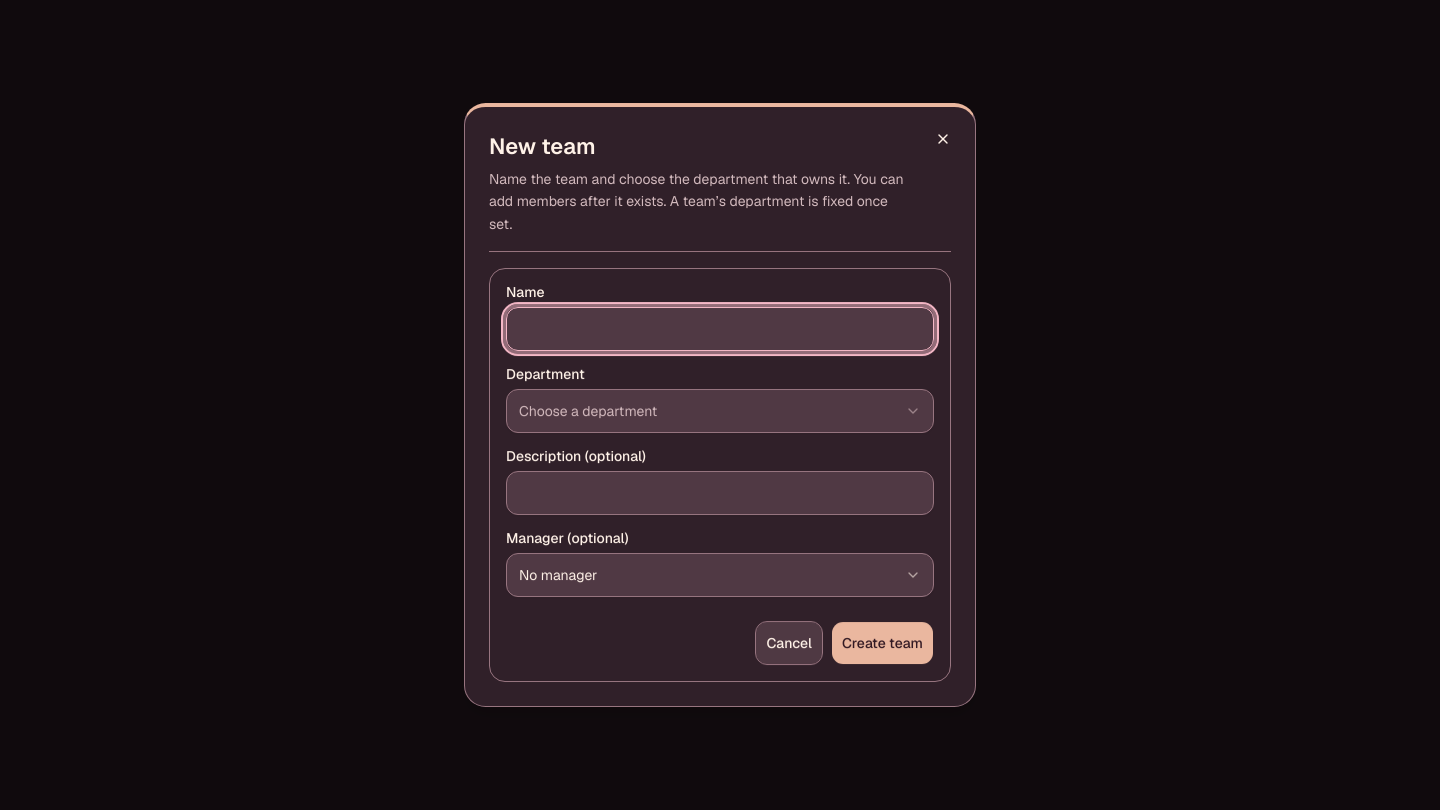
it: CreateTeamDialog › shows a name-conflict error and keeps the typed value
This screenshot has width=1440, height=810.
Step 1. Type "Marketing Team" into the field labelled "Name" → (720, 329), box [506,307,934,351]
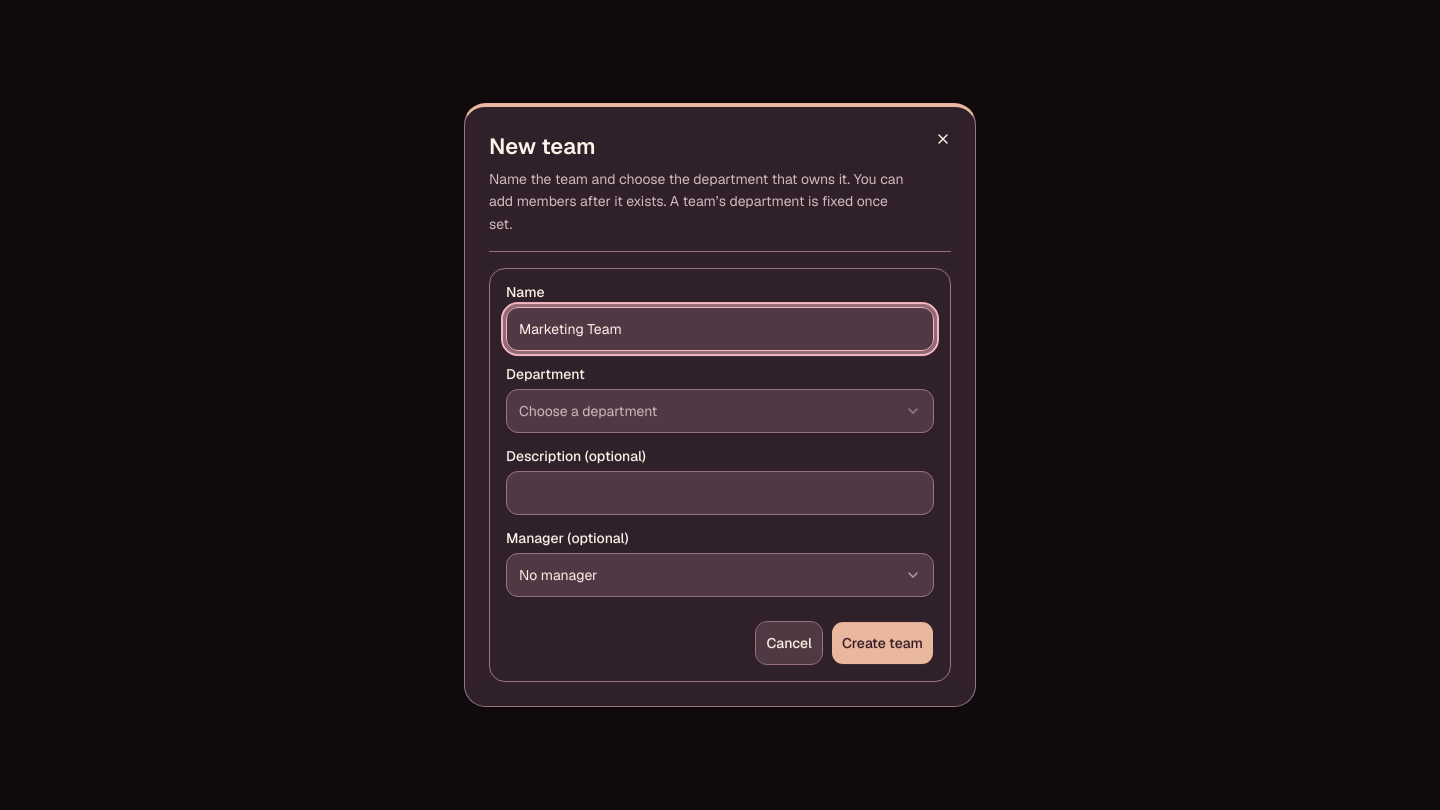
Step 2. Click the dropdown labelled "department" → click(588, 411), box [506,389,934,433]
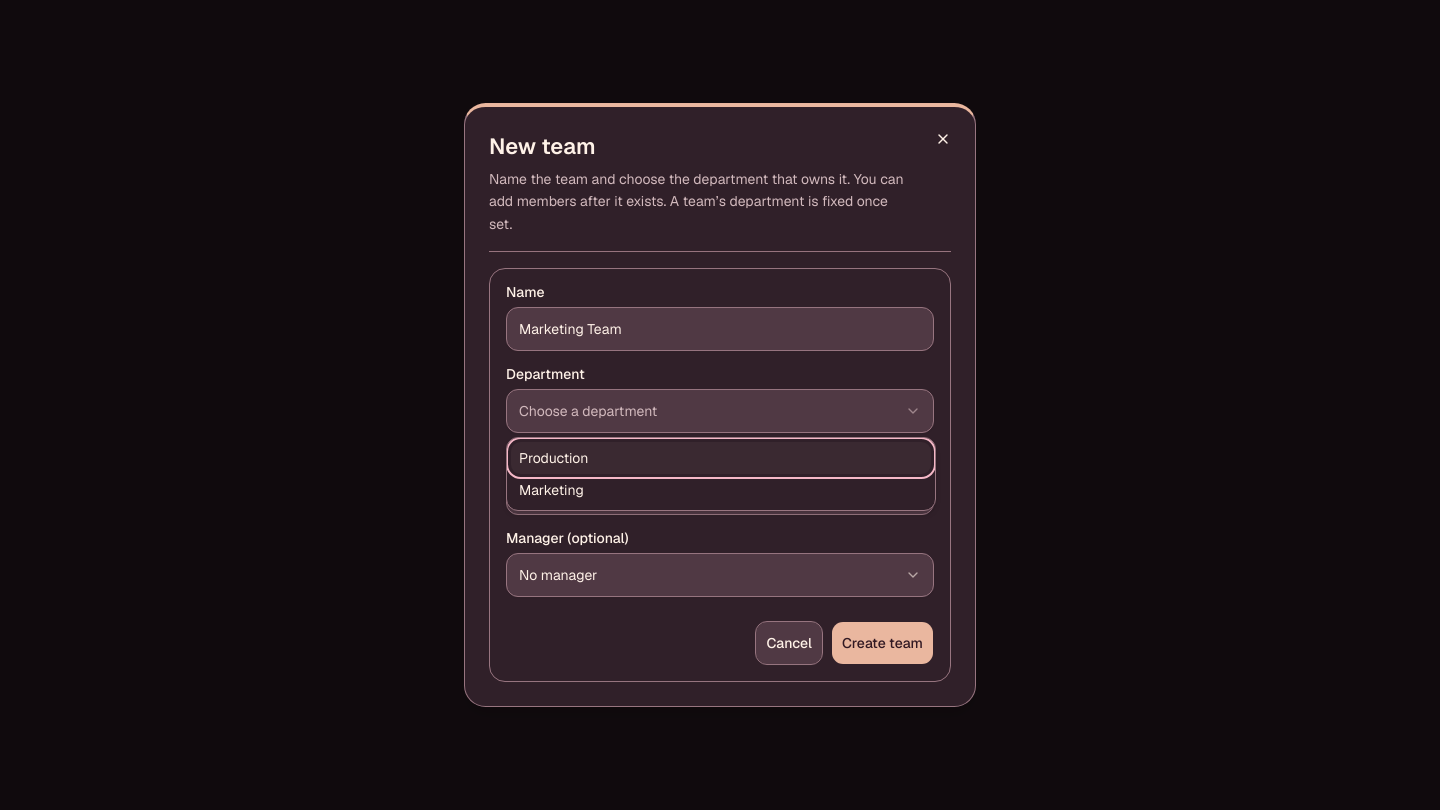
Step 3. Click the option "Production" → click(554, 458), box [511,442,931,474]
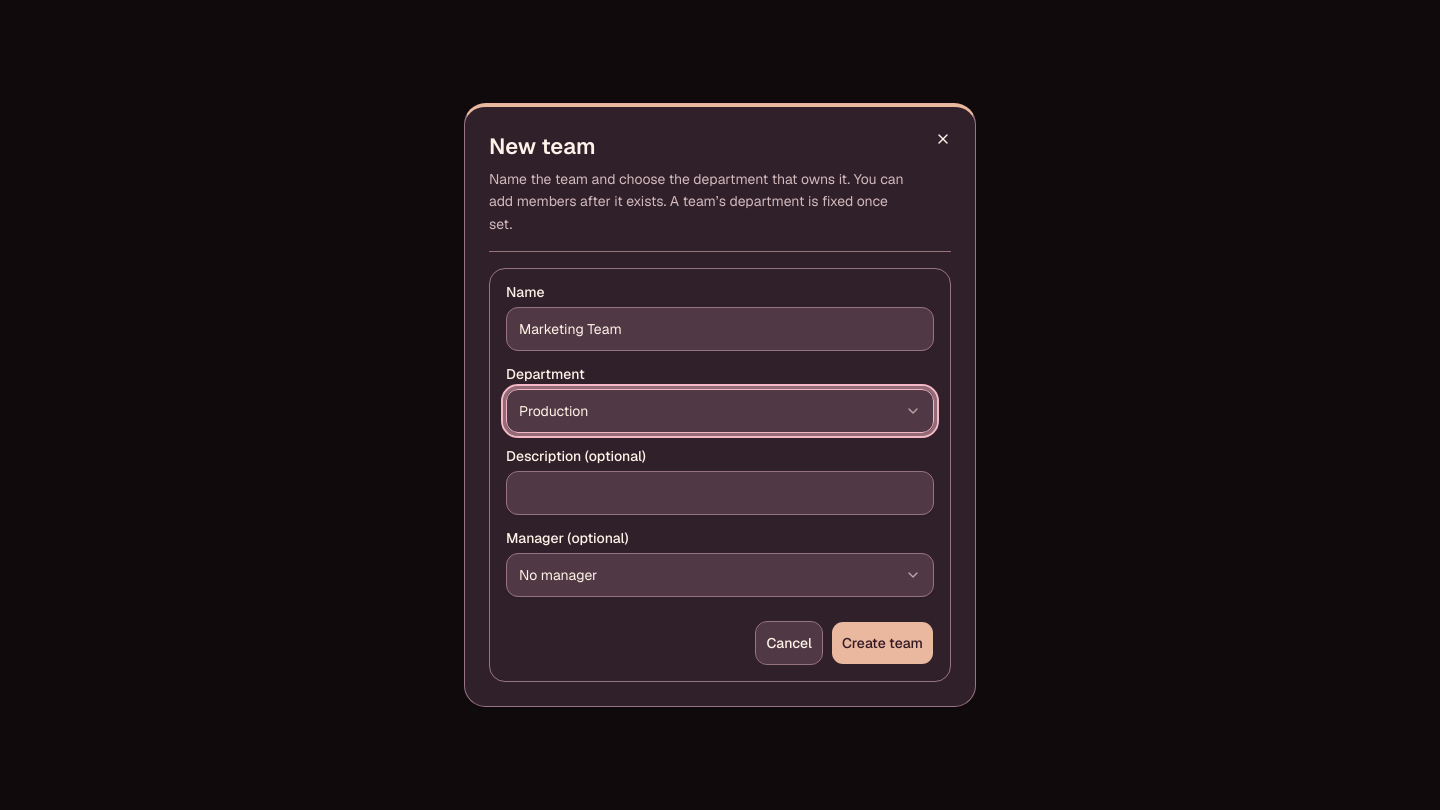
Step 4. Click the button "Create team" → click(882, 643), box [831,621,934,665]
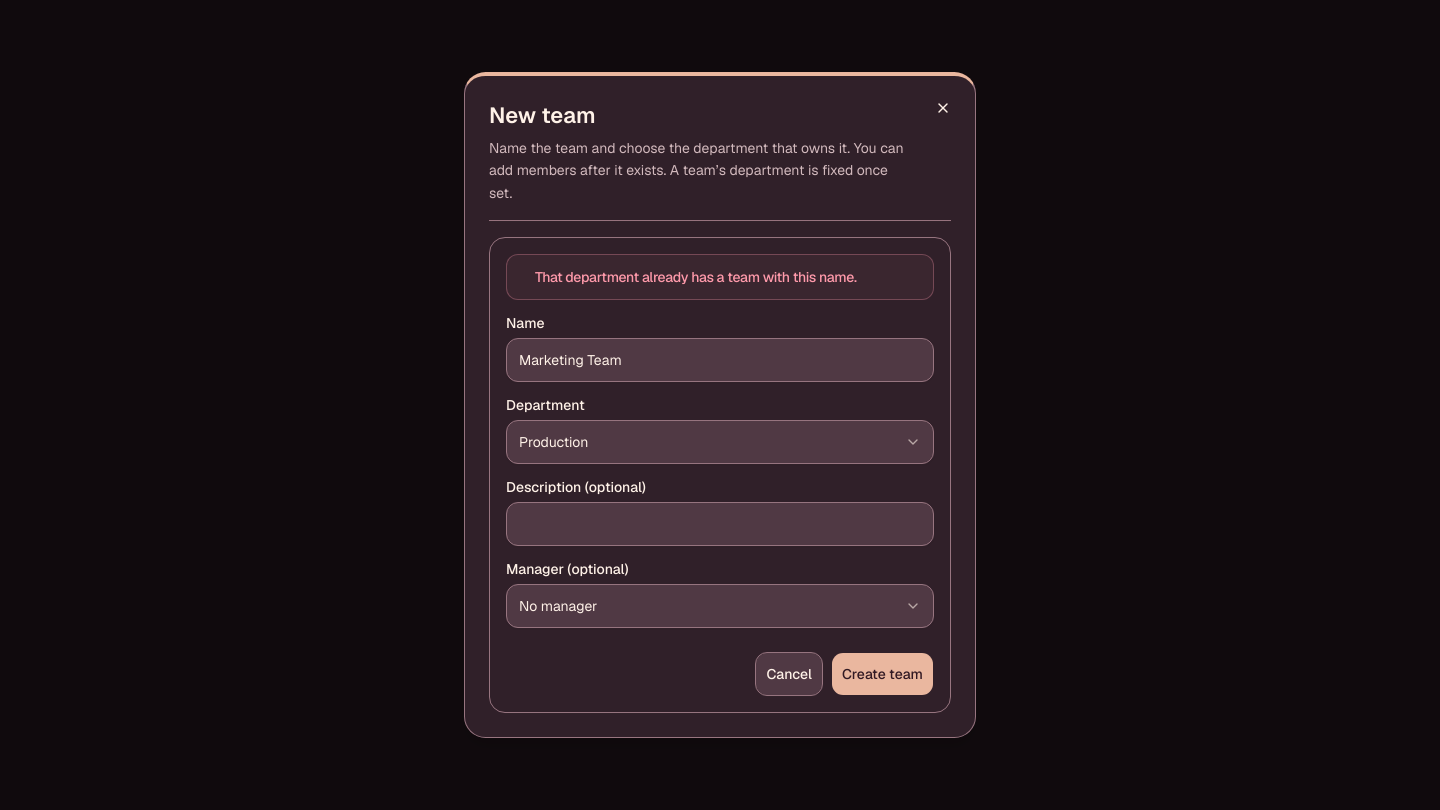
Result: the text "That department already has a team with this name." is shown at [535,268,857,286]
